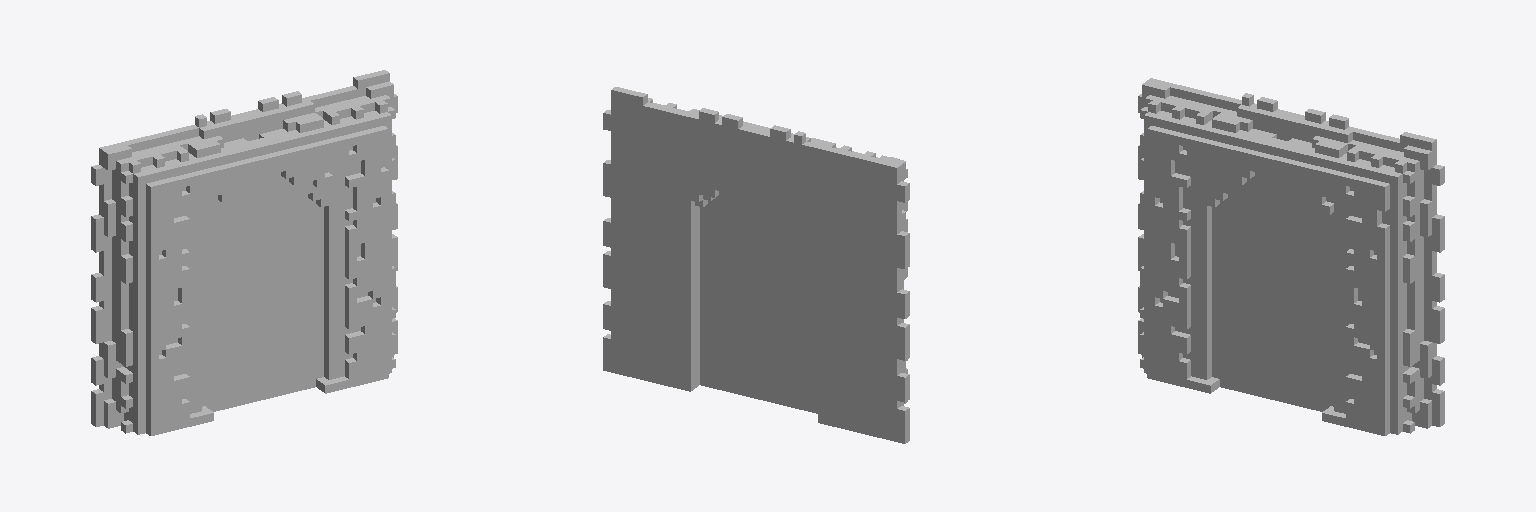
File: door.obj
The picture shows the model from 3 angles: view 1: azimuth 30°, elevation 25°; view 2: azimuth 150°, elevation 25°; view 3: azimuth 330°, elevation 25°; orthographic projection.
Parts seen in each view (by area): view 1: object 1; view 2: object 1; view 3: object 1.
Part boxes in pixels (left/top/right/bottom): object 1: left=91, top=70, right=397, bottom=435; object 1: left=603, top=87, right=909, bottom=443; object 1: left=1138, top=78, right=1444, bottom=435.
Bounding box in the file's own units: 3.8 × 3.4 × 0.6.